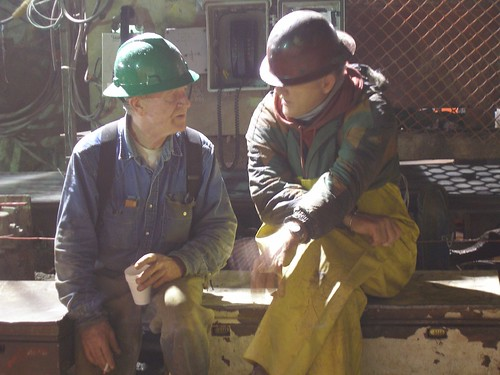person hardhat: (238, 7, 420, 375), (71, 32, 242, 375)
